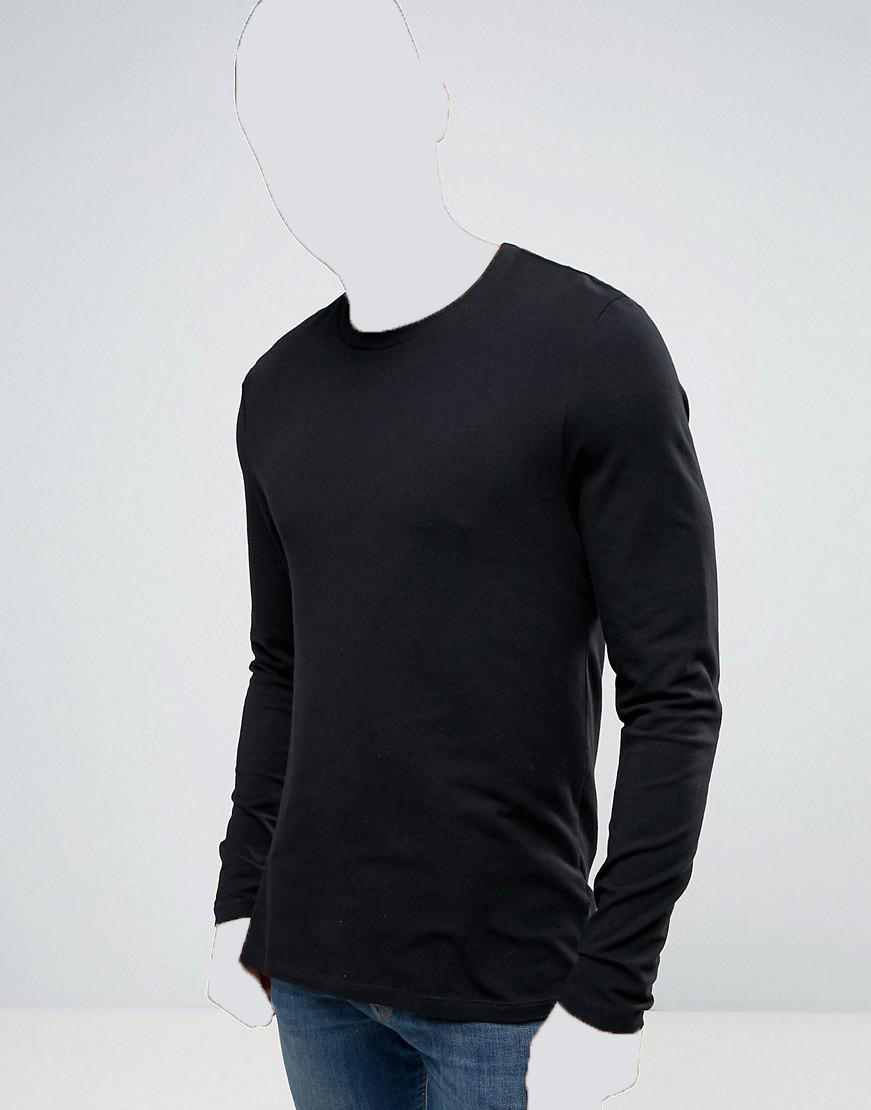teeshirt: (162, 240, 729, 1040)
